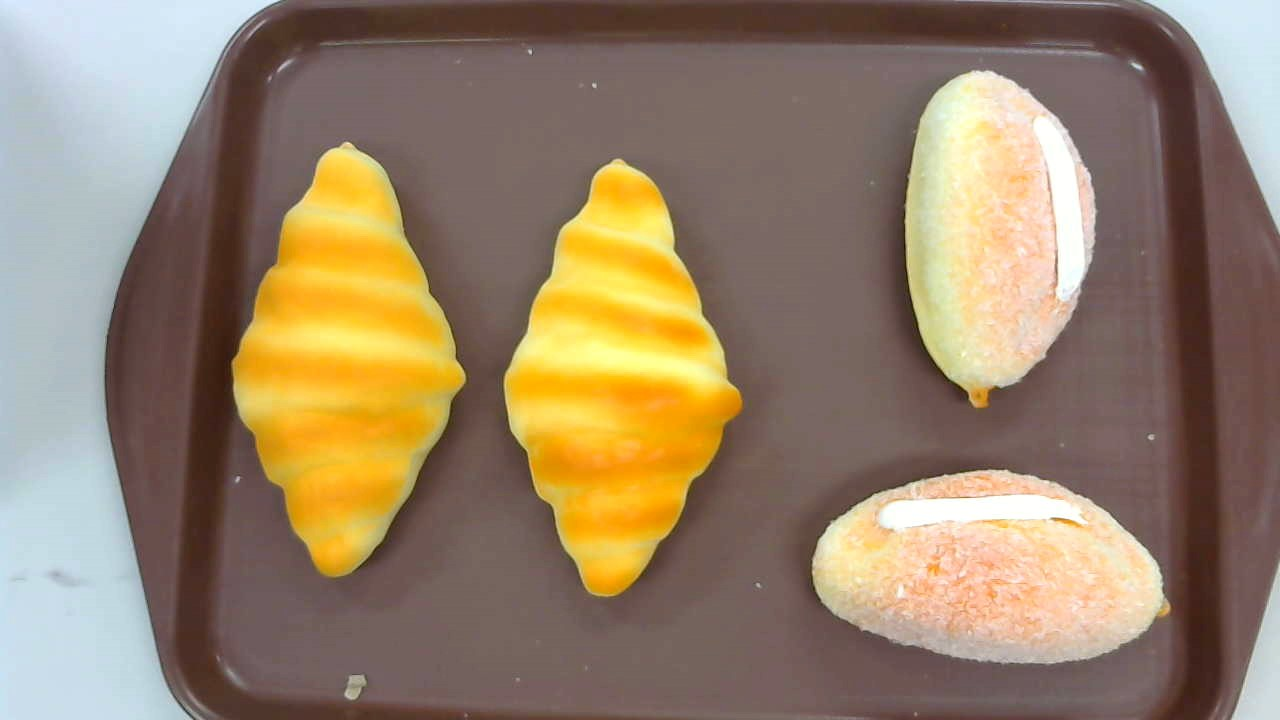coconut: (810, 467, 1171, 666), (905, 69, 1097, 410)
croissant: (502, 158, 742, 597), (229, 140, 466, 580)
